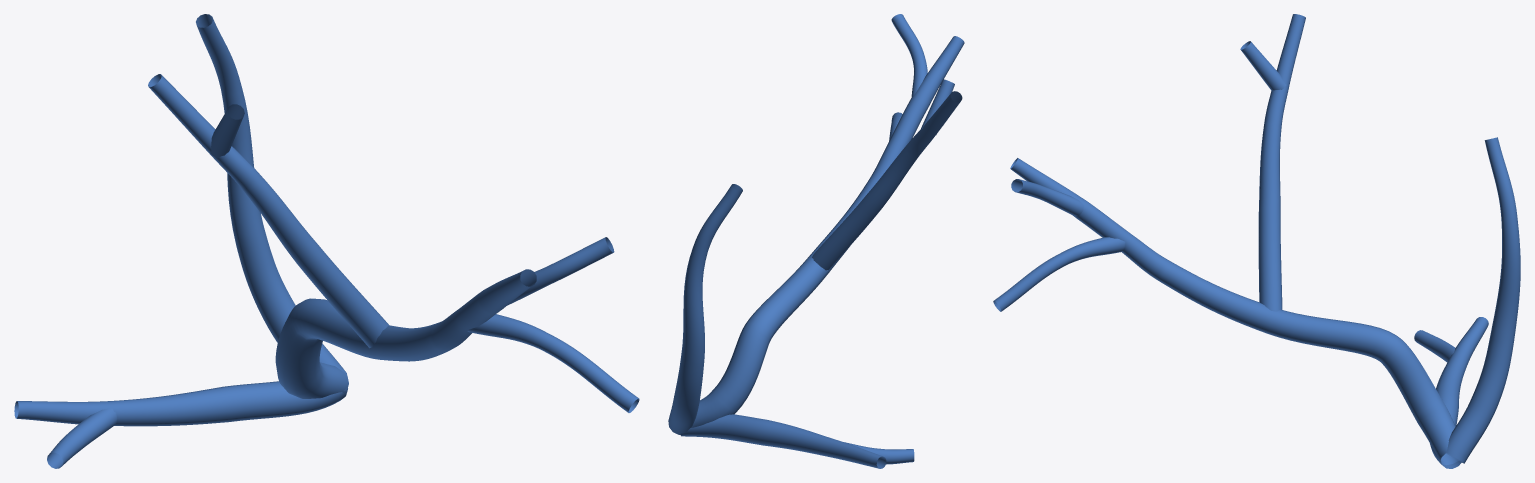
The picture shows the model from 3 angles, left to right: view 1: azimuth 30°, elevation 25°; view 2: azimuth 150°, elevation 25°; view 3: azimuth 270°, elevation 25°; orthographic projection. The views are drawn at different scales.
Visible parts, largest first — view 1: 右肺后静脉; view 2: 右肺后静脉; view 3: 右肺后静脉.
Boxes of the visible parts, x1,y1,x2,y2 form: 右肺后静脉: [14, 14, 639, 468]; 右肺后静脉: [668, 14, 964, 468]; 右肺后静脉: [993, 14, 1520, 468].
Bounding box in the file's own units: 0.0601 × 0.0843 × 0.1139.
